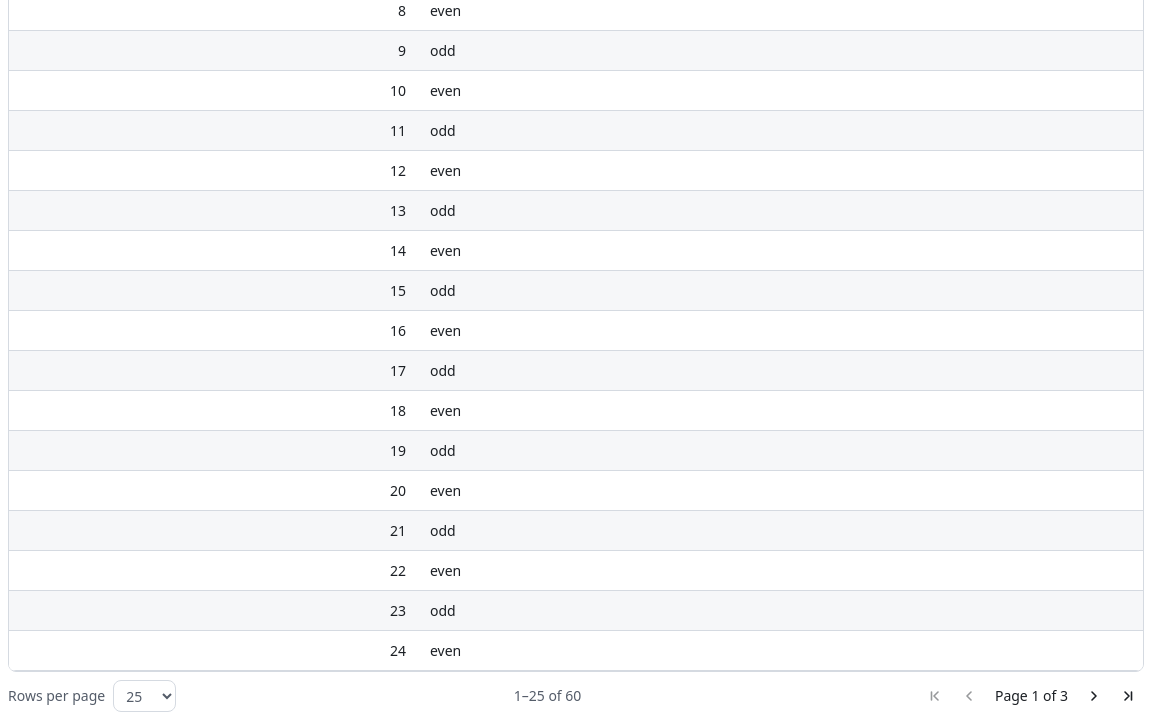
Test case: US3: sort, search and filter › resets to page 1 when search or filters change
The width and height of the screenshot is (1152, 720).
(page scrolled)
Click the button named "Next page" at (1094, 696), box left=1078, top=680, right=1110, bottom=712
(page scrolled)
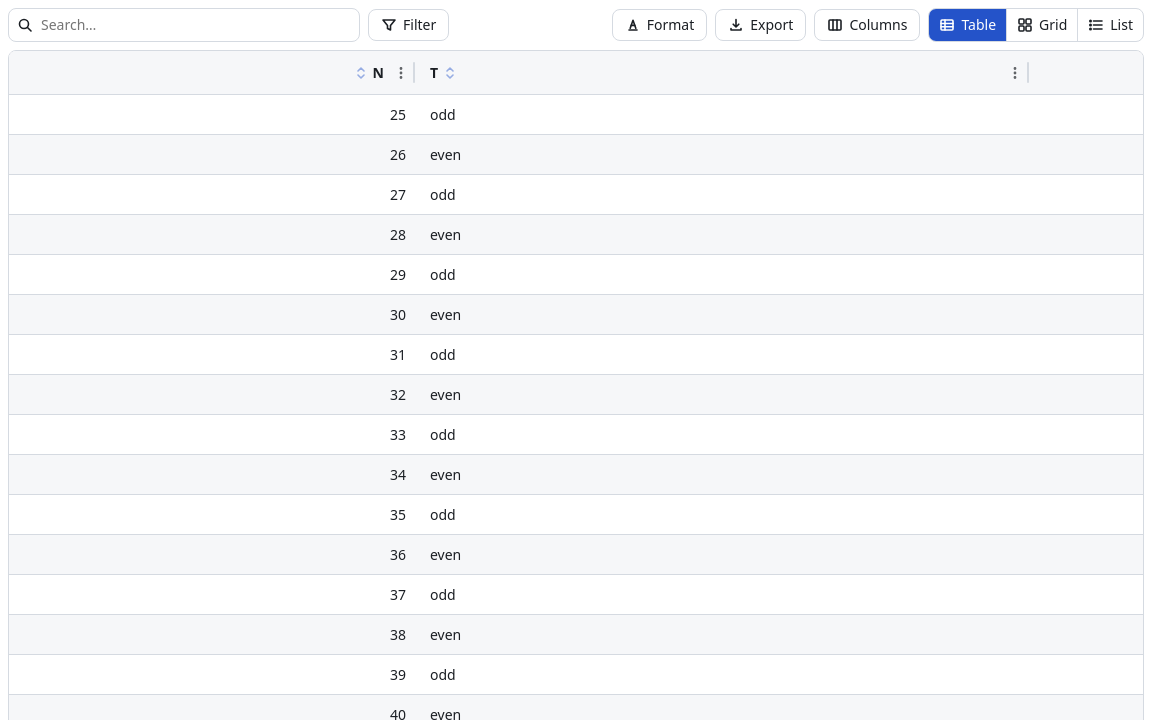
Type "odd" into the search field at (196, 25), box left=33, top=9, right=359, bottom=41
(page scrolled)
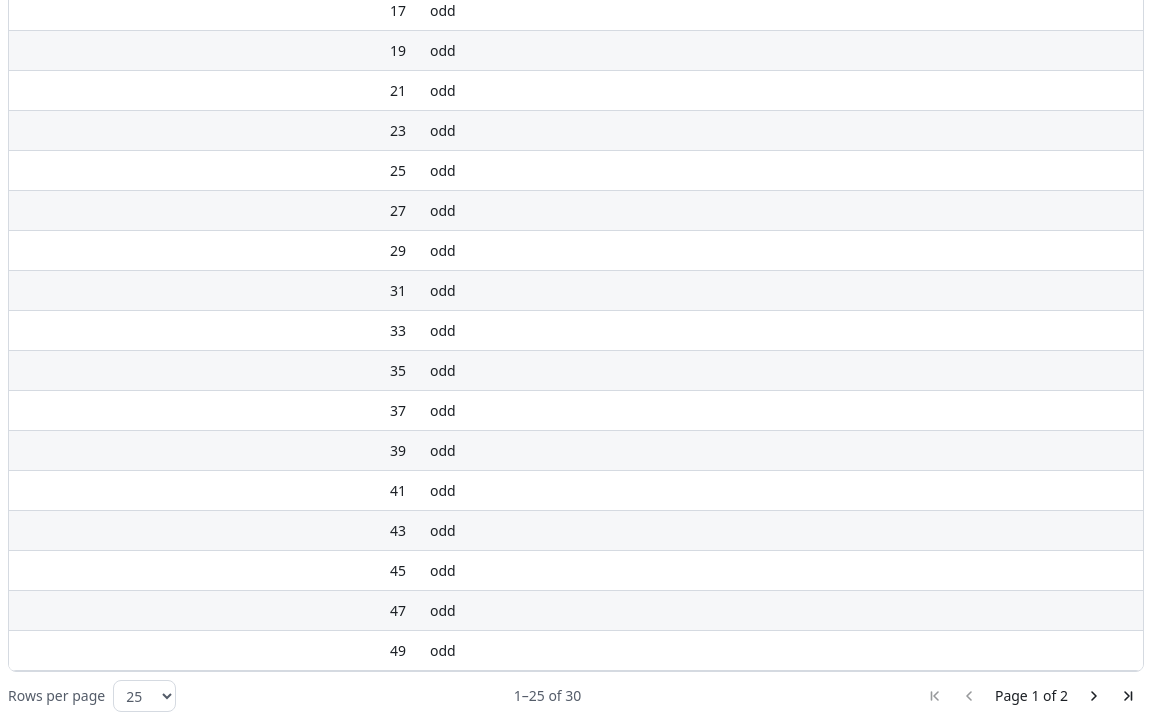
expect the text "1–25 of 30" is shown: met, box left=514, top=686, right=581, bottom=706
